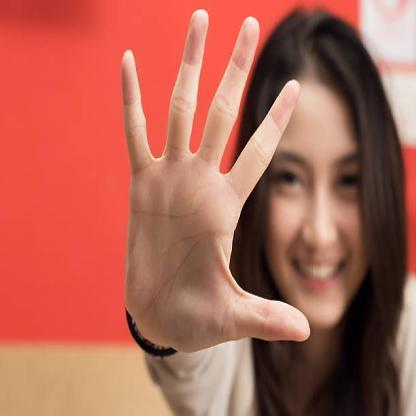stop: (118, 6, 312, 350)
